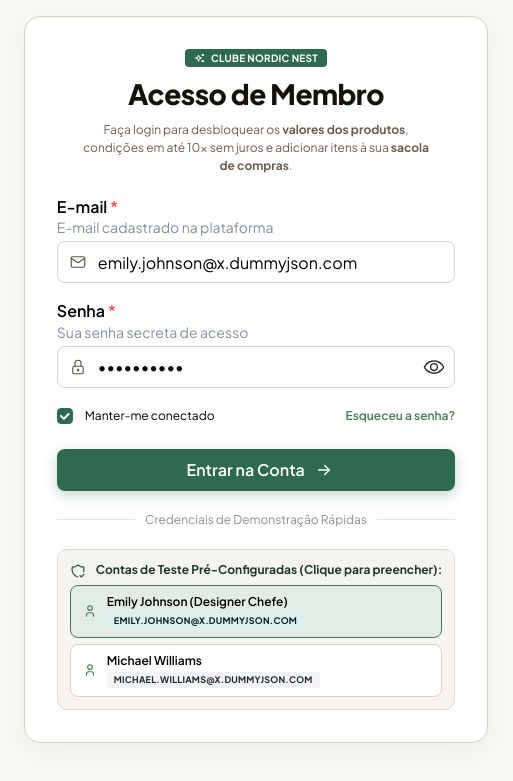
it: LoginPage - Testes de Componente e Formulário › deve exibir mensagem de validação Zod quando o e-mail for inválido
Note: Valor mínimo que dispara erro de formato (sem @)
Replace the text in the field labelled "E-mail *" with "abc" at (256, 262), box [57, 241, 455, 283]
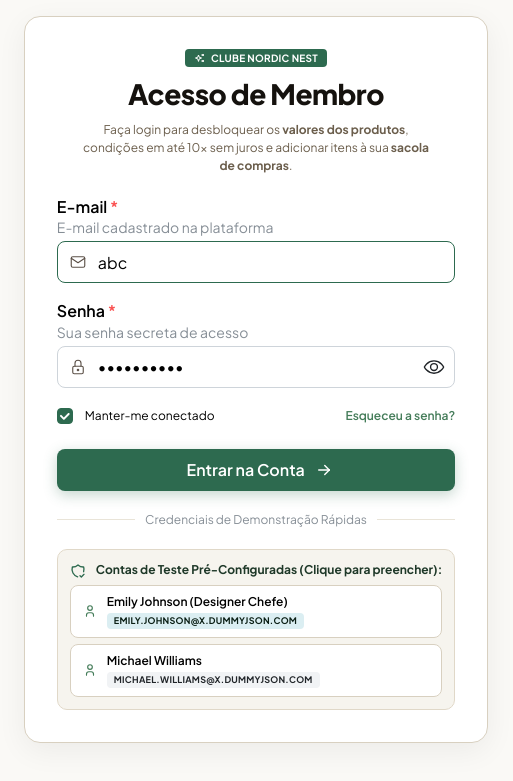
Click the button "Entrar na Conta".
click(256, 470)  # box [57, 449, 455, 491]
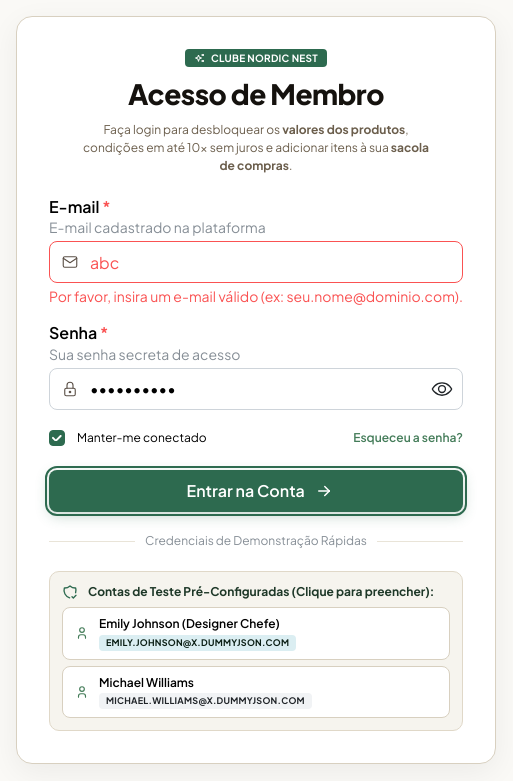
Expected: the text "Por favor, insira um e-mail válido" is shown, [49, 287, 463, 305]
